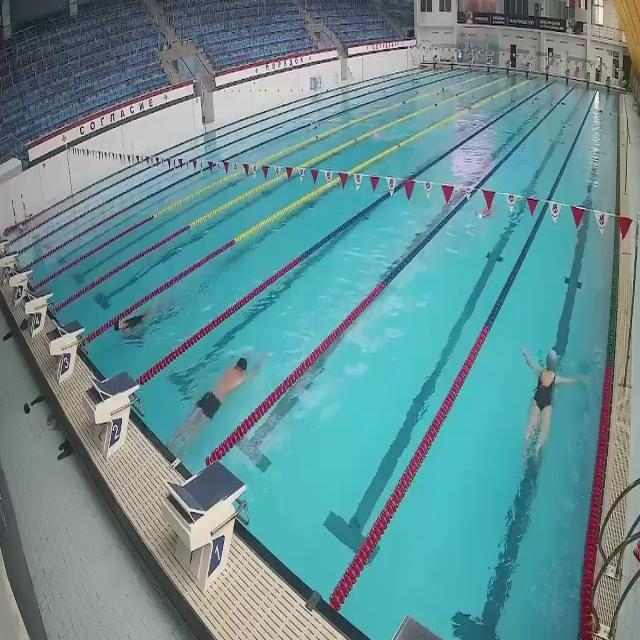Swimming: (166, 347, 265, 457), (518, 346, 583, 460), (115, 302, 173, 340), (477, 204, 496, 220)
